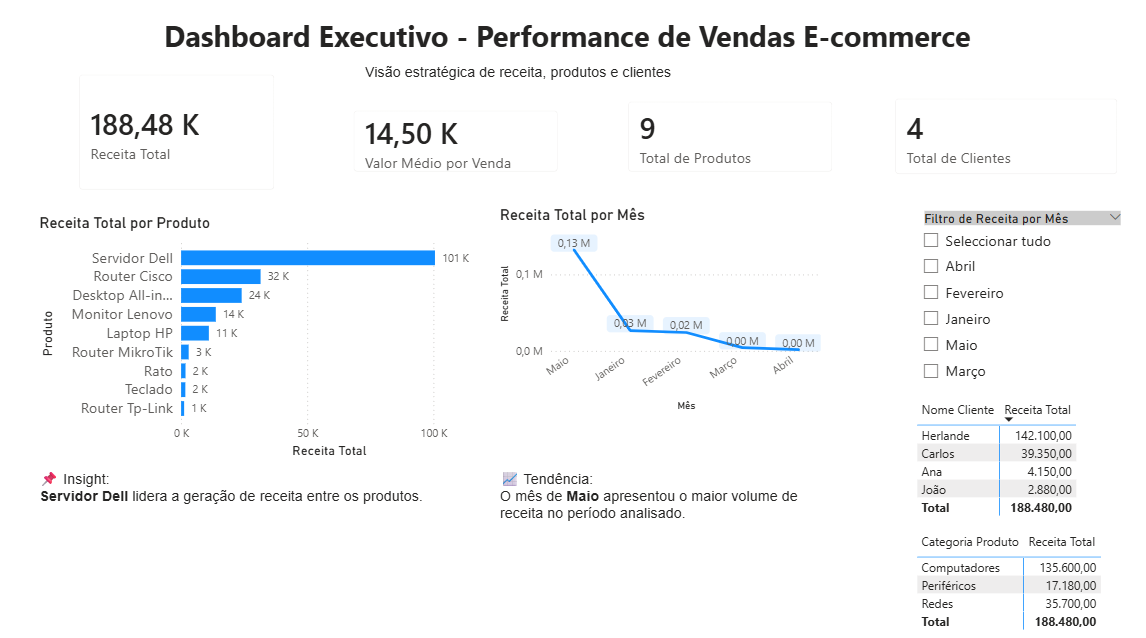

Layout of this report page (visuals, bound fields, positions):
{"tool":"powerbi","page":{"name":"dashboard_ecommerce","canvas":[1280,720],"ordinal":0},"visuals":[{"type":"lineChart","title":"Evolução Mensal da Receita","fields":{"Y":["Vendas .Receita Total"],"Category":["Data Venda.Mês"]},"box":[573.3,233.3,436.7,411.7],"z":0},{"type":"pivotTable","fields":{"Rows":["Clientes.Nome Cliente"],"Values":["Vendas .Receita Total"]},"box":[1030,443,233.3,146.7],"z":1000},{"type":"clusteredBarChart","title":"Top Produtos por Receita","fields":{"Category":["dim_produtos.nome"],"Y":["fato_vendas.Receita Total"]},"box":[15,233.3,540,411.7],"z":2000},{"type":"textbox","box":[175,5,968.3,53.3],"z":3000},{"type":"textbox","box":[405,58.3,470,38.3],"z":4000},{"type":"cardVisual","fields":{"Data":["fato_vendas.Receita Total"]},"box":[91.7,100,268.3,111],"z":5000},{"type":"textbox","box":[15,655,453.3,51.7],"z":6000},{"type":"slicer","fields":{"Values":["Data Venda.Mês"]},"box":[1030,233.3,233.3,210],"z":7000},{"type":"pivotTable","fields":{"Rows":["Produtos.Categoria Produto"],"Values":["Vendas .Receita Total"]},"box":[1030,590,233.3,128.3],"z":8000},{"type":"cardVisual","fields":{"Data":["Vendas .Ticket Médio"]},"box":[378.3,100,261.7,111.7],"z":9000},{"type":"cardVisual","fields":{"Data":["Vendas .Total Clientes"]},"box":[935,101.7,243.3,111.7],"z":10000},{"type":"cardVisual","fields":{"Data":["Vendas .Total Produtos"]},"box":[660,100,261.7,113.3],"z":11000},{"type":"textbox","box":[573.3,645,436.7,73.3],"z":12000}]}

Visuals, with their boxes in screenshot pixels (x1, y1, x2, y2), scaled from the page's 1280x720 canvas onto the 1146x638 screenshot:
"Evolução Mensal da Receita" lineChart: 513, 207, 904, 572
pivotTable - Clientes.Nome Cliente x Vendas .Receita Total: 922, 393, 1131, 523
"Top Produtos por Receita" clusteredBarChart: 13, 207, 497, 572
textbox: 157, 4, 1024, 52
textbox: 363, 52, 783, 86
cardVisual - fato_vendas.Receita Total: 82, 89, 322, 187
textbox: 13, 580, 419, 626
slicer - Data Venda.Mês: 922, 207, 1131, 393
pivotTable - Produtos.Categoria Produto x Vendas .Receita Total: 922, 523, 1131, 636
cardVisual - Vendas .Ticket Médio: 339, 89, 573, 188
cardVisual - Vendas .Total Clientes: 837, 90, 1055, 189
cardVisual - Vendas .Total Produtos: 591, 89, 825, 189
textbox: 513, 572, 904, 636
